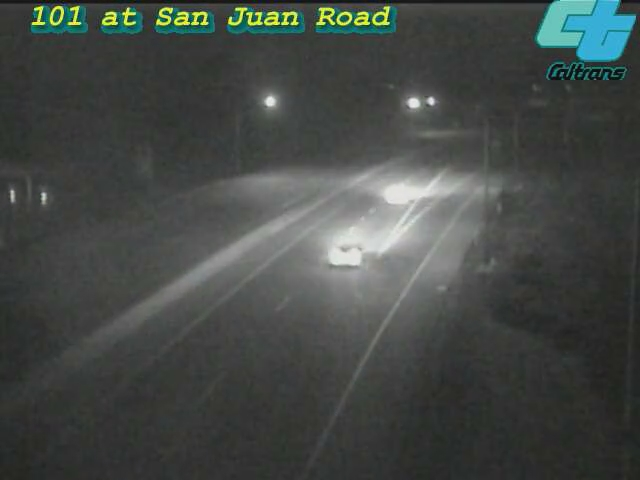vehicle: (358, 157, 438, 237), (306, 218, 386, 298)
